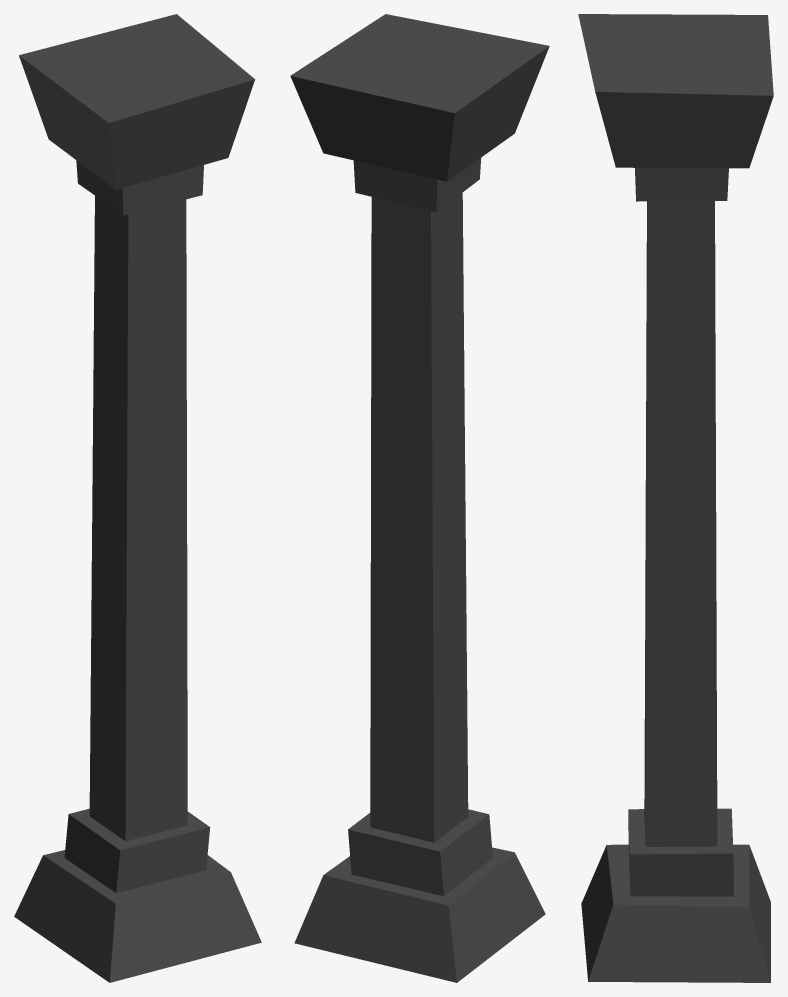
File: Prison_Corner.fbx
The picture shows the model from 3 angles, left to right: view 1: azimuth 30°, elevation 25°; view 2: azimuth 150°, elevation 25°; view 3: azimuth 270°, elevation 25°; orthographic projection. The views are drawn at different scales.
Visible parts, largest first — view 1: Prison_Corner; view 2: Prison_Corner; view 3: Prison_Corner.
Part boxes in pixels (x1,y1,x2,y2): Prison_Corner: (14,14,261,982); Prison_Corner: (290,14,549,982); Prison_Corner: (578,14,773,982).
Size of the model in its own units: 15.24 by 76.42 by 15.25.
